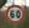limite 60: (4, 3, 25, 24)
